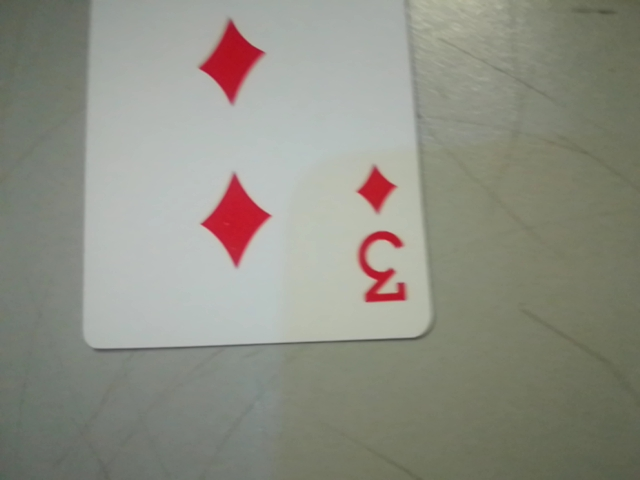fk 3: (341, 151, 421, 319)
